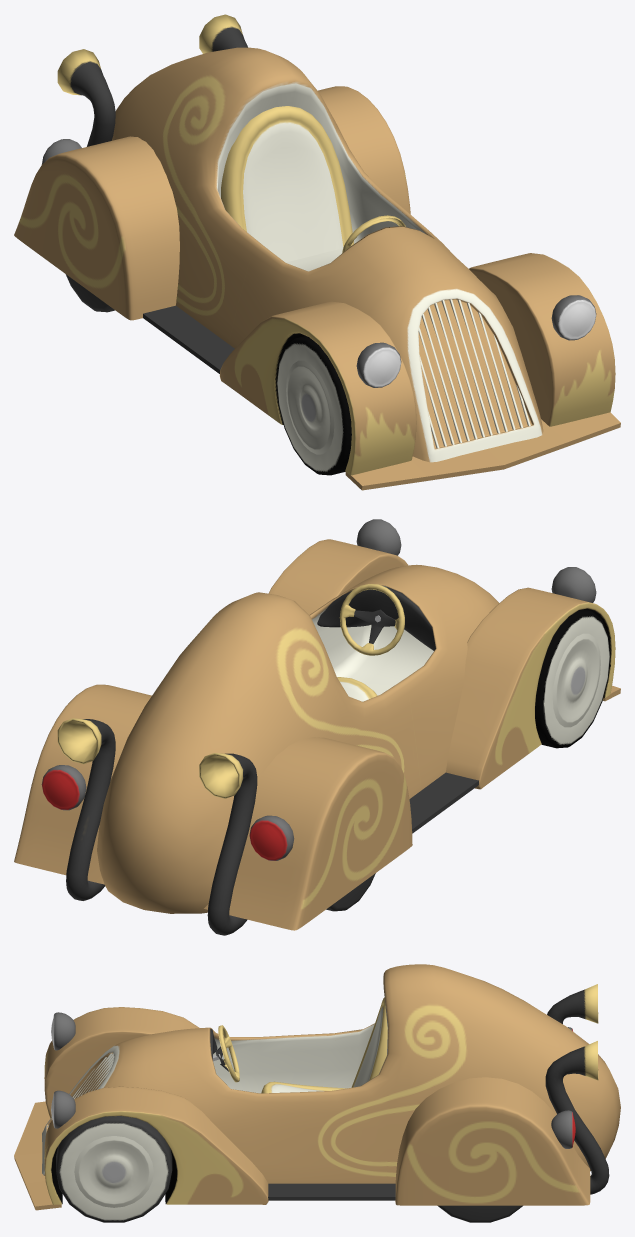
Rendered from KeongMas_Fix.fbx.
3 views of the same model, one above another, from view 1: azimuth 30°, elevation 25°; view 2: azimuth 150°, elevation 25°; view 3: azimuth 270°, elevation 25° (orthographic). The views are drawn at different scales.
Parts seen in each view (by area): view 1: Cube.014, Plane.001, Plane.002, Cube.029, Circle.031, Plane.003, Cube.015, NurbsPath.002, Circle.015, Plane.004; view 2: Cube.014, Plane.002, Plane.001, NurbsPath.002, Circle.031, Circle.018, Cube.018, Circle.015, wheel steer.001, Plane.004, Circle.032; view 3: Cube.014, Plane.002, Plane.001, Circle.014, NurbsPath.002, Plane.003, Plane.004, Circle.015, Cube.029, Circle.016, Circle.018, wheel steer.001 (+2 smaller).
Part boxes in pixels (x1,y1,x2,y2): Cube.014: (111,47,543,462); Plane.001: (219,253,615,475); Plane.002: (14,86,410,320); Cube.029: (221,106,354,262); Circle.031: (276,336,351,475); Plane.003: (345,412,620,490); Cube.015: (418,299,530,448); NurbsPath.002: (57,14,247,146); Circle.015: (356,295,596,387); Plane.004: (143,305,234,373); Cube.014: (97,564,499,913); Plane.002: (14,684,412,930); Plane.001: (268,539,615,789); NurbsPath.002: (57,718,257,935); Circle.031: (535,609,610,748); Circle.018: (41,765,294,860); Cube.018: (317,587,435,650); Circle.015: (356,519,596,602); wheel steer.001: (339,584,404,655); Plane.004: (409,772,478,833); Circle.032: (326,873,375,911); Cube.014: (42,964,620,1183); Plane.002: (395,1077,590,1205); Plane.001: (44,1007,268,1204); Circle.014: (56,1116,172,1222); NurbsPath.002: (545,984,609,1194); Plane.003: (14,1101,61,1210); Plane.004: (268,1183,395,1200); Circle.015: (51,1012,75,1128); Cube.029: (351,997,387,1087); Circle.016: (437,1205,522,1222); Circle.018: (551,1027,575,1148); wheel steer.001: (215,1025,239,1082).
Size of the model in its own units: 115 by 94.03 by 258.
Materials: 1 (1 with a texture image).
